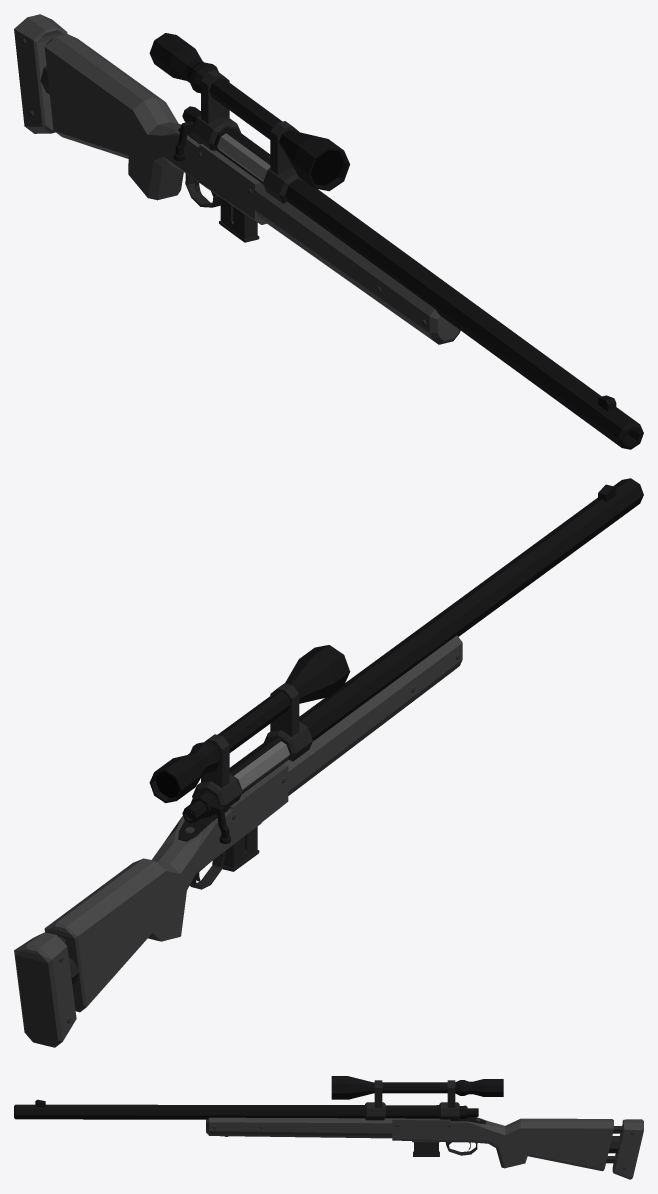
The picture shows the model from 3 angles, top to bottom: view 1: azimuth 30°, elevation 25°; view 2: azimuth 150°, elevation 25°; view 3: azimuth 270°, elevation 25°; orthographic projection. The views are drawn at different scales.
Visible parts, largest first — view 1: Body, Magazine; view 2: Body, Magazine; view 3: Body, Magazine.
Part boxes in pixels (x1,y1,x2,y2): Body: (14, 14, 643, 449); Magazine: (219, 198, 259, 242); Body: (14, 478, 643, 1047); Magazine: (222, 826, 259, 871); Body: (14, 1076, 643, 1179); Magazine: (413, 1142, 439, 1156).
Size of the model in its own units: 5.72 by 21.62 by 123.
